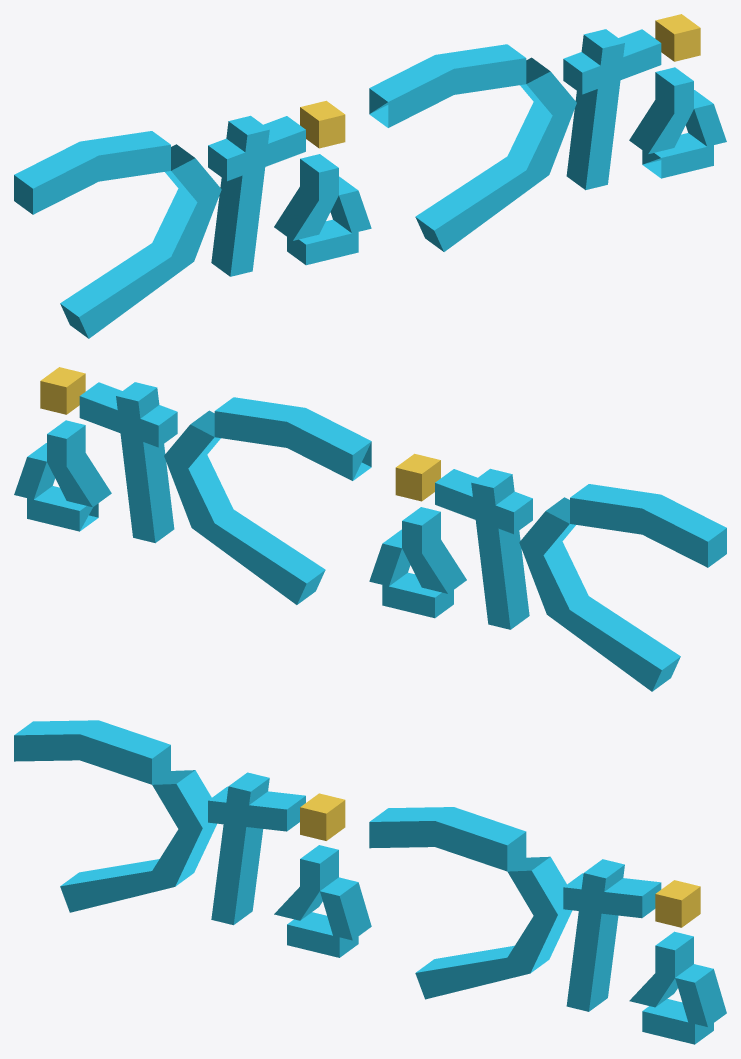
Rendered from Tsunatsuna.obj.
3 renders of one model, top to bottom at view 1: azimuth 30°, elevation 25°; view 2: azimuth 150°, elevation 25°; view 3: azimuth 330°, elevation 25°, orthographic.
Visible parts, largest first — view 1: TsunatsunaText; view 2: TsunatsunaText; view 3: TsunatsunaText.
Boxes of the visible parts, x1,y1,x2,y2 form: TsunatsunaText: [14, 14, 726, 338]; TsunatsunaText: [14, 367, 726, 691]; TsunatsunaText: [14, 720, 726, 1044].
Bounding box in the file's own units: 10.55 × 2.63 × 0.5.
